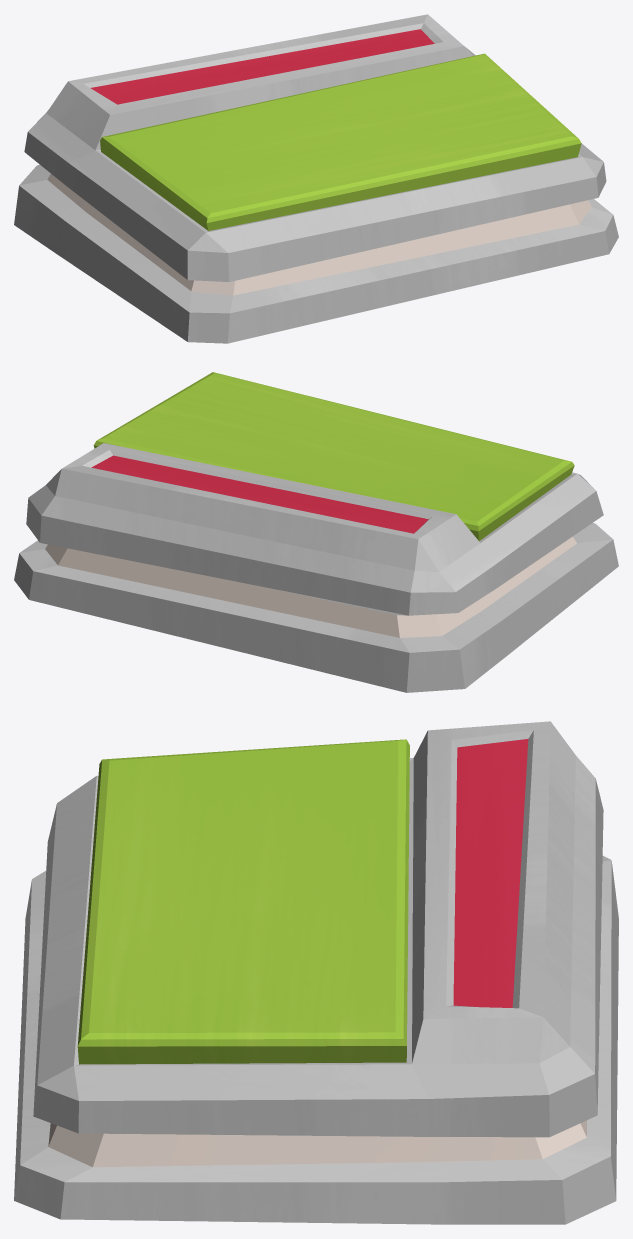
The model's file is Bed.fbx.
The picture shows the model from 3 angles, top to bottom: view 1: azimuth 30°, elevation 25°; view 2: azimuth 150°, elevation 25°; view 3: azimuth 270°, elevation 25°; orthographic projection. The views are drawn at different scales.
Parts seen in each view (by area): view 1: Bed; view 2: Bed; view 3: Bed.
Part boxes in pixels (<box>): Bed: <box>14,14,618,343</box>; Bed: <box>14,372,618,692</box>; Bed: <box>14,721,618,1224</box>.
Bounding box in the file's own units: 241 × 68.96 × 184.
